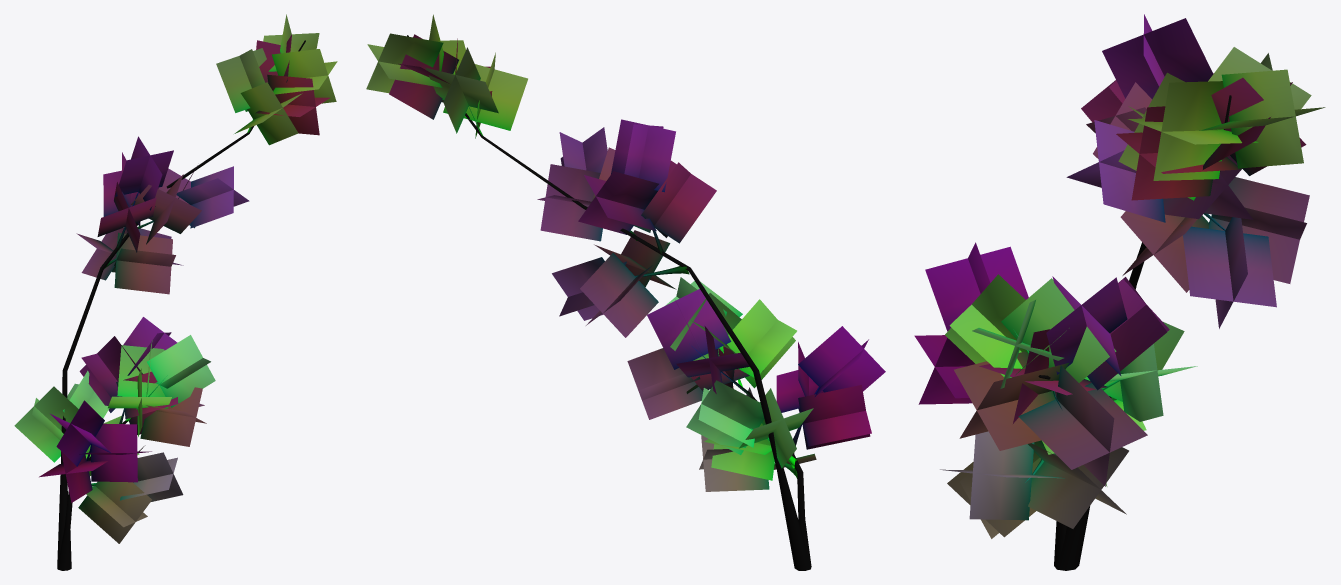
The model's file is URP_P5_Tree_10_LOD_3.fbx.
3 renders of one model, left to right at view 1: azimuth 30°, elevation 25°; view 2: azimuth 150°, elevation 25°; view 3: azimuth 270°, elevation 25°, orthographic. The views are drawn at different scales.
Visible parts, largest first — view 1: Tree_10_LOD_3; view 2: Tree_10_LOD_3; view 3: Tree_10_LOD_3.
Boxes of the visible parts, x1,y1,x2,y2 form: Tree_10_LOD_3: (14, 14, 337, 570); Tree_10_LOD_3: (366, 14, 885, 570); Tree_10_LOD_3: (914, 14, 1325, 570).
Size of the model in its own units: 597 by 697 by 355.
